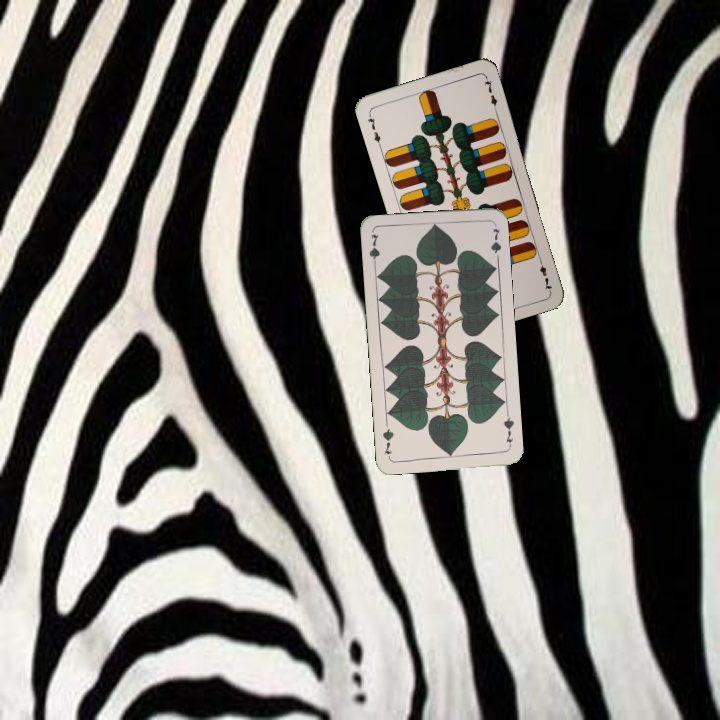E7: (535, 254, 555, 293), (364, 109, 383, 149)
G7: (365, 230, 382, 270), (500, 410, 516, 450)
